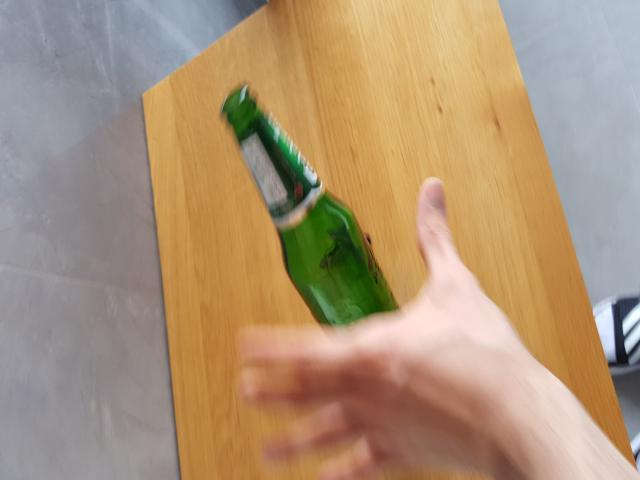beer: (221, 83, 400, 325)
